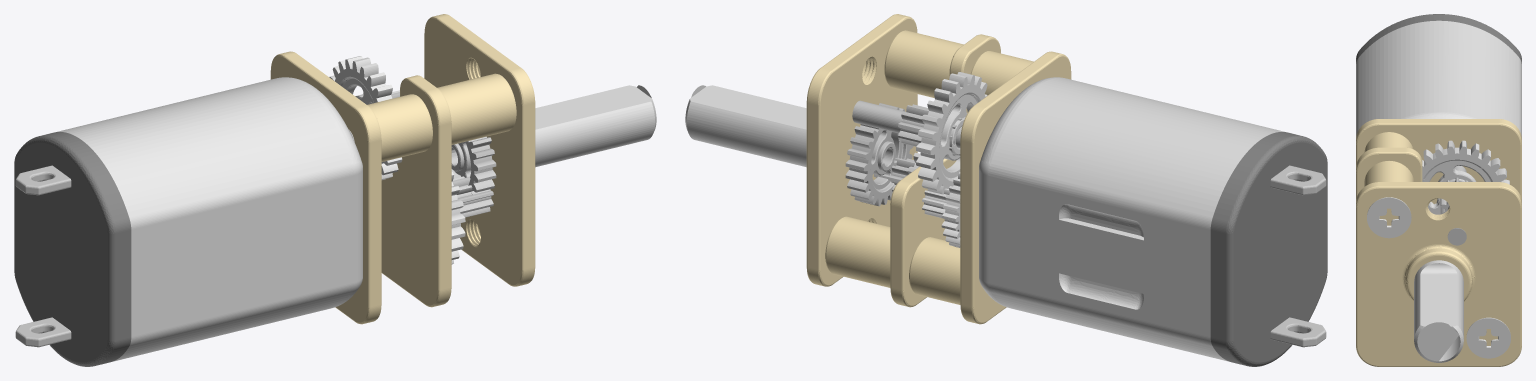
File: MicroGearMotor.fbx
3 views of the same model, side by side, from view 1: azimuth 30°, elevation 25°; view 2: azimuth 150°, elevation 25°; view 3: azimuth 270°, elevation 25° (orthographic). The views are drawn at different scales.
Visible parts, largest first — view 1: imagetostl_mesh5; view 2: imagetostl_mesh5; view 3: imagetostl_mesh5.
Boxes of the visible parts, box(x1,y1,x2,y2) form: imagetostl_mesh5: box(14, 14, 656, 366); imagetostl_mesh5: box(685, 14, 1327, 366); imagetostl_mesh5: box(1356, 14, 1521, 366).
Size of the model in its own units: 3650 by 1200 by 1000.
